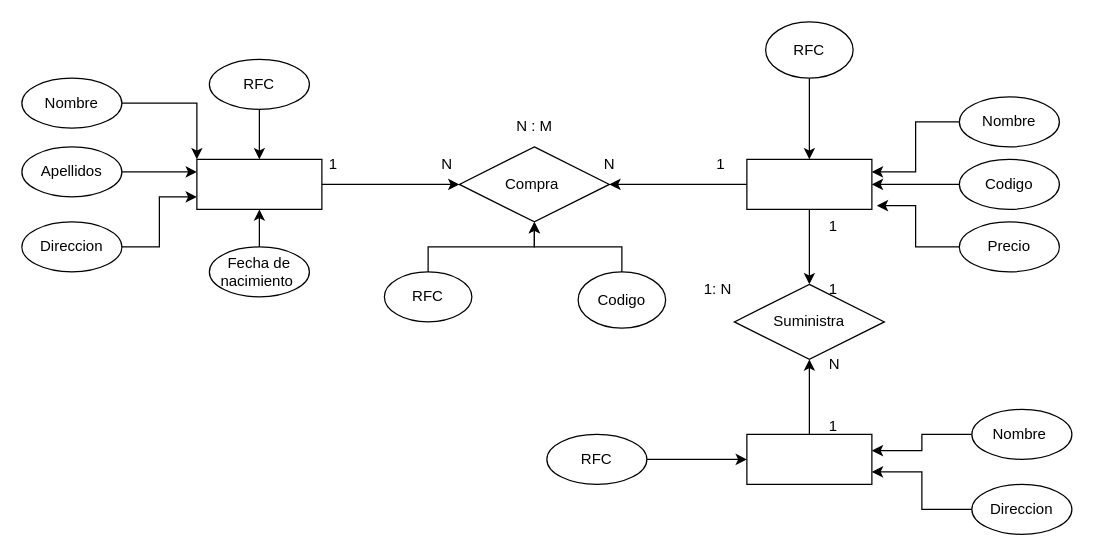
The diagram is 1094 pixels wide and 556 high, and some of its shapes have lost their labels. Each missing label, with the centre of its shape:
"Cliente" belongs at (x=259, y=183).
"Producto" belongs at (x=809, y=183).
"Proveedor" belongs at (x=809, y=458).
